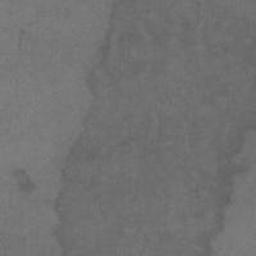Water spot: (47, 0, 256, 255), (10, 166, 38, 193)
